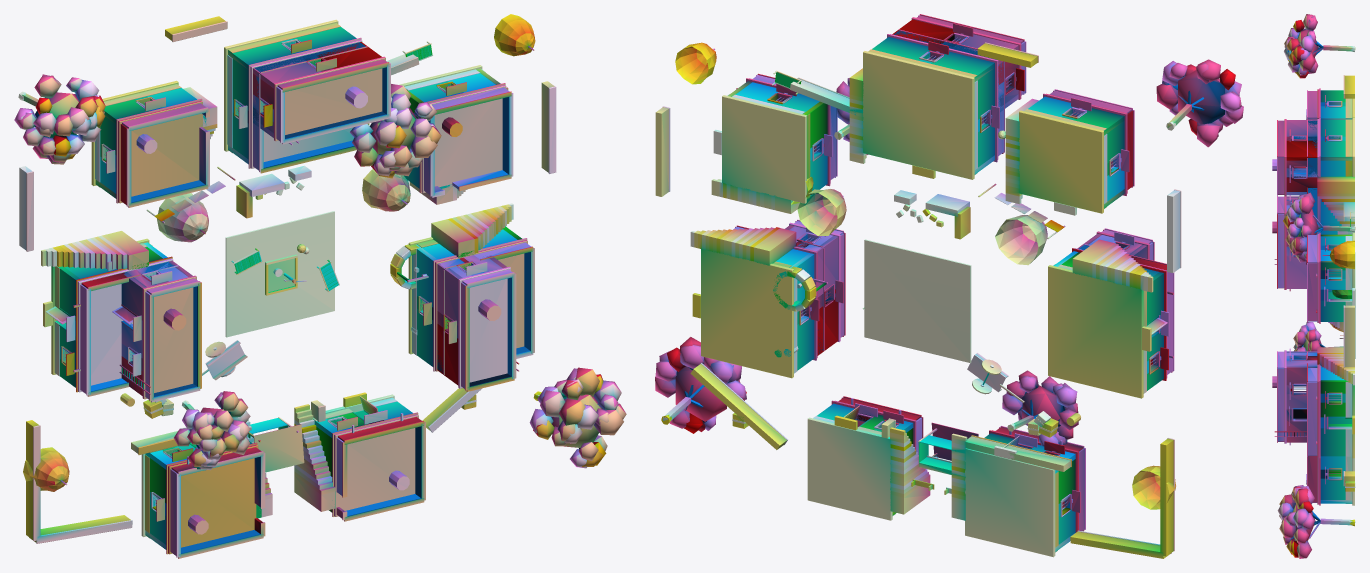
Rendered from PatharGaon.fbx.
3 views of the same model, side by side, from view 1: azimuth 30°, elevation 25°; view 2: azimuth 150°, elevation 25°; view 3: azimuth 270°, elevation 25° (orthographic). The views are drawn at different scales.
Visible parts, largest first — view 1: PG_House_F_LOD0, PG_Courtyard_LOD0, PG_Trees_LOD0, PG_House_A_LOD0, PG_House_C_LOD0, PG_House_D_LOD0, PG_House_G_LOD0, PG_House_E_LOD0, PG_House_B_LOD0, PG_Hay_LOD0, PG_Props_LOD0, PG_ChaiStall_LOD0 (+1 smaller); view 2: PG_Courtyard_LOD0, PG_House_A_LOD0, PG_House_C_LOD0, PG_House_F_LOD0, PG_Trees_LOD0, PG_House_G_LOD0, PG_House_B_LOD0, PG_House_E_LOD0, PG_House_D_LOD0, PG_Hay_LOD0, PG_Props_LOD0, PG_ChaiStall_LOD0 (+1 smaller); view 3: PG_House_C_LOD0, PG_House_A_LOD0, PG_Trees_LOD0, PG_House_B_LOD0, PG_House_D_LOD0, PG_House_F_LOD0, PG_Courtyard_LOD0, PG_House_G_LOD0, PG_Hay_LOD0, PG_Props_LOD0.
Part boxes in pixels (box(x1,y1,x2,y2)): PG_House_F_LOD0: box(41, 231, 201, 402); PG_Courtyard_LOD0: box(19, 16, 556, 543); PG_Trees_LOD0: box(14, 74, 626, 470); PG_House_A_LOD0: box(224, 19, 390, 173); PG_House_C_LOD0: box(408, 203, 534, 391); PG_House_D_LOD0: box(294, 392, 425, 521); PG_House_G_LOD0: box(91, 80, 217, 207); PG_House_E_LOD0: box(141, 419, 272, 558); PG_House_B_LOD0: box(399, 65, 513, 204); PG_Hay_LOD0: box(23, 14, 535, 491); PG_Props_LOD0: box(120, 41, 476, 418); PG_ChaiStall_LOD0: box(248, 417, 304, 472); PG_Courtyard_LOD0: box(655, 42, 1181, 558); PG_House_A_LOD0: box(849, 14, 1026, 179); PG_House_C_LOD0: box(690, 219, 845, 378); PG_House_F_LOD0: box(1048, 228, 1174, 398); PG_Trees_LOD0: box(655, 59, 1243, 446); PG_House_G_LOD0: box(1005, 89, 1134, 215); PG_House_B_LOD0: box(711, 73, 837, 213); PG_House_E_LOD0: box(951, 426, 1085, 557); PG_House_D_LOD0: box(807, 396, 930, 520); PG_Hay_LOD0: box(675, 42, 1175, 509); PG_Props_LOD0: box(732, 70, 1080, 437); PG_ChaiStall_LOD0: box(911, 422, 978, 494); PG_House_C_LOD0: box(1272, 347, 1354, 458); PG_House_A_LOD0: box(1272, 118, 1354, 234); PG_Trees_LOD0: box(1277, 14, 1355, 558); PG_House_B_LOD0: box(1306, 232, 1354, 330); PG_House_D_LOD0: box(1306, 456, 1354, 505); PG_House_F_LOD0: box(1272, 195, 1337, 291); PG_Courtyard_LOD0: box(1337, 75, 1355, 486); PG_House_G_LOD0: box(1306, 88, 1354, 119); PG_Hay_LOD0: box(1322, 240, 1354, 332); PG_Props_LOD0: box(1339, 212, 1355, 491).
Size of what is drawn, in the model's own units: 44.39 by 36.87 by 7.6.
